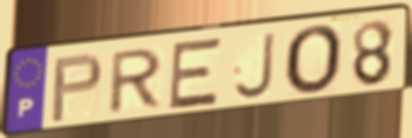8: (350, 18, 395, 89)
E: (166, 35, 225, 113)
J: (231, 29, 277, 102)
O: (282, 23, 346, 98)
P: (48, 51, 106, 126)
R: (105, 46, 167, 118)
